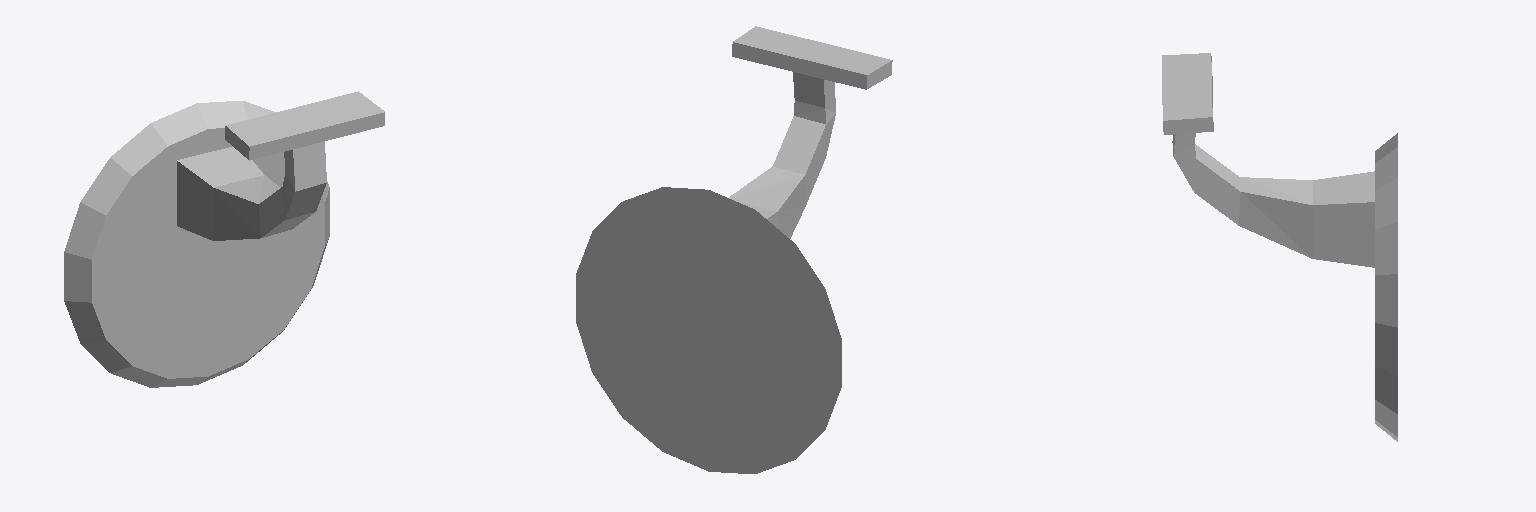
Rendered from wall_bracket.obj.
3 renders of one model, left to right at view 1: azimuth 30°, elevation 25°; view 2: azimuth 150°, elevation 25°; view 3: azimuth 270°, elevation 25°, orthographic.
Visible parts, largest first — view 1: Cylinder, Plane; view 2: Cylinder, Plane; view 3: Plane, Cylinder.
Part boxes in pixels (bbox=[...]): Cylinder: bbox=[64, 101, 329, 387]; Plane: bbox=[177, 91, 384, 240]; Cylinder: bbox=[576, 187, 841, 473]; Plane: bbox=[729, 26, 892, 238]; Plane: bbox=[1162, 53, 1374, 267]; Cylinder: bbox=[1375, 133, 1397, 441].
Size of the model in its own units: 1.97 by 2.45 by 1.52.